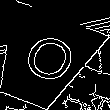O_SW: (10, 28, 76, 91)
